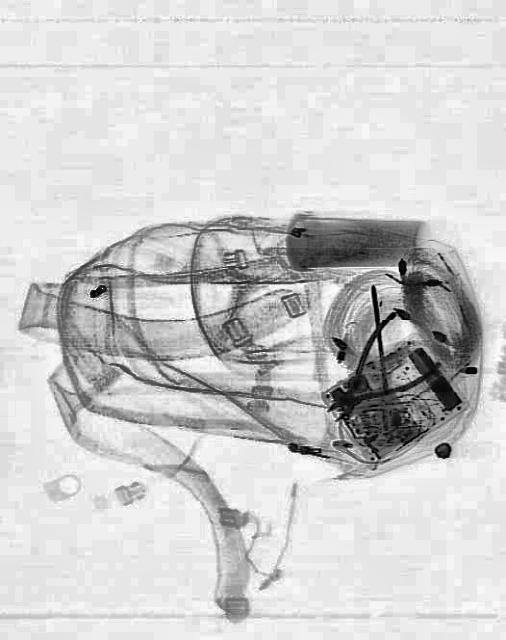Pliers: (308, 304, 442, 446)
